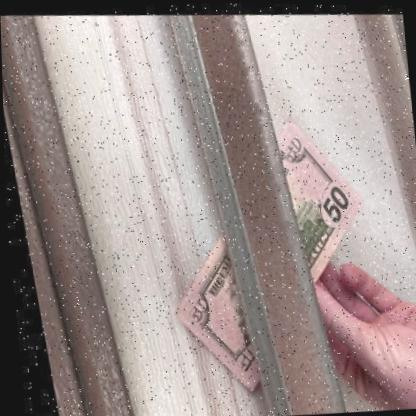dollar_back: (166, 109, 359, 389)
